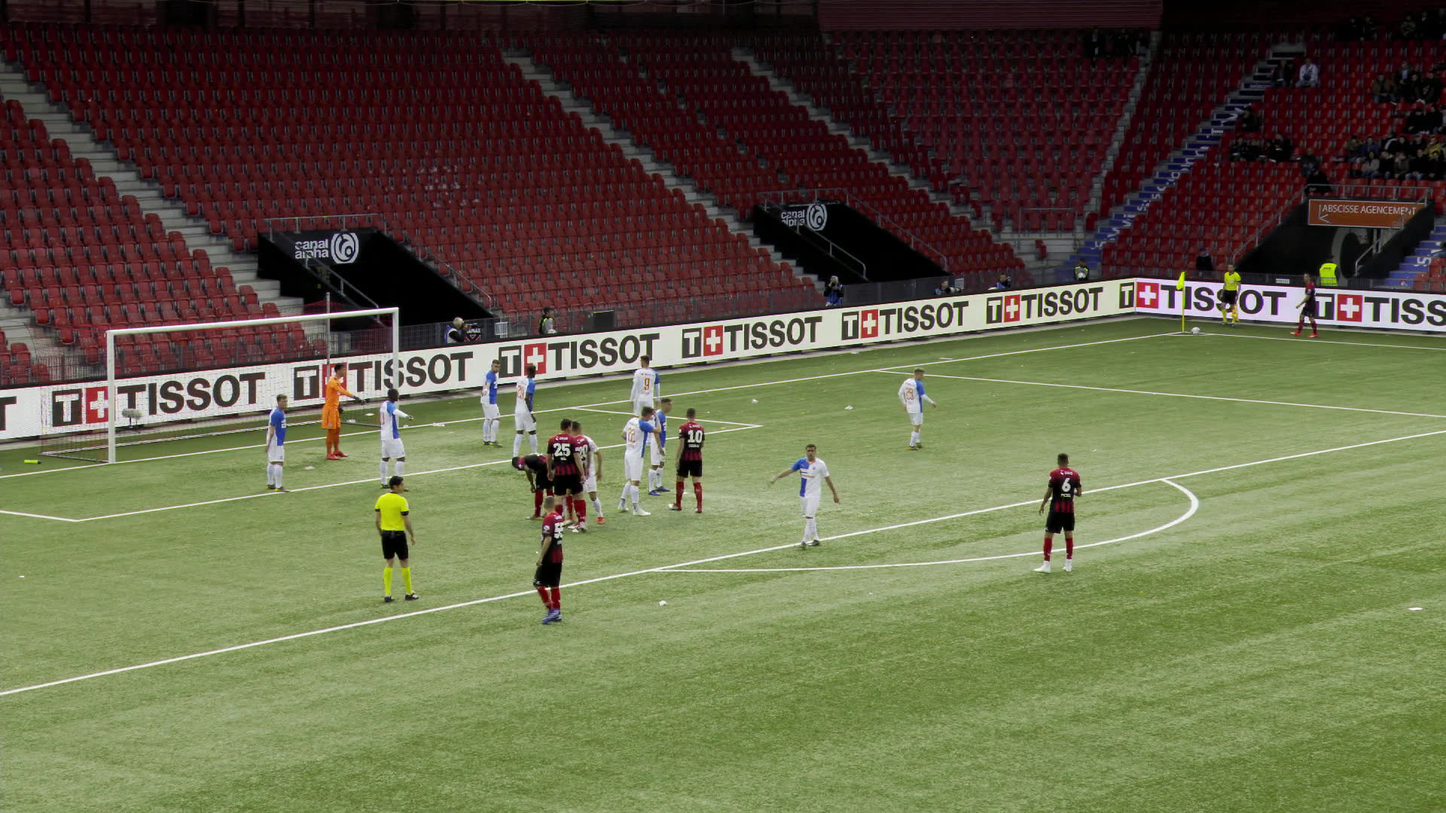ball: (1191, 327, 1200, 334)
player: (779, 441, 840, 548), (531, 498, 581, 623), (1034, 452, 1079, 572), (547, 419, 590, 533), (320, 361, 367, 458), (622, 405, 663, 515), (669, 406, 707, 513), (567, 416, 605, 522), (261, 393, 299, 491), (377, 386, 413, 489), (565, 419, 599, 525), (898, 367, 936, 450), (512, 446, 553, 518), (511, 364, 541, 461), (649, 397, 675, 495), (1286, 272, 1323, 336), (630, 349, 660, 425), (476, 358, 502, 445)
referee: (374, 474, 418, 601), (1213, 263, 1241, 327)
